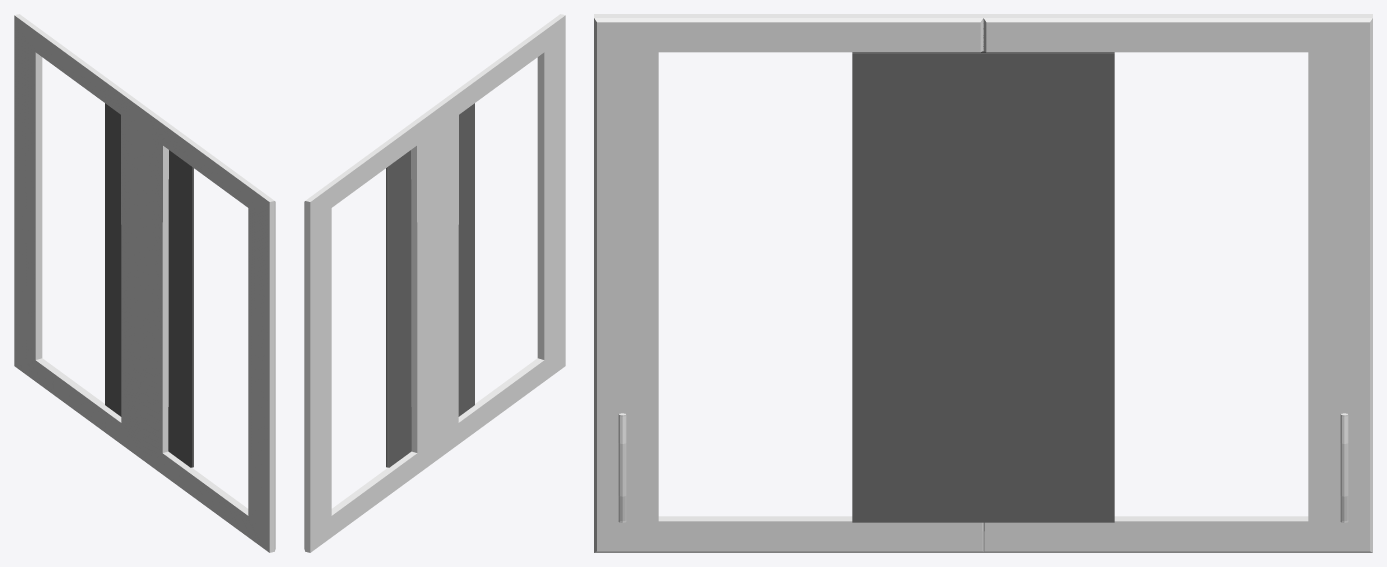
The model's file is Cabinet_8bba9b0e.obj.
3 views of the same model, side by side, from view 1: azimuth 30°, elevation 25°; view 2: azimuth 150°, elevation 25°; view 3: azimuth 270°, elevation 25° (orthographic). The views are drawn at different scales.
Parts seen in each view (by area): view 1: CabinetDoorMesh_c4d226b8, CabinetDoorMesh_796617c4, FP224:polySurface1_1_35c3c8af, FP224:polySurface8_1_af4ea848; view 2: CabinetDoorMesh_796617c4, CabinetDoorMesh_c4d226b8, FP224:polySurface1_1_35c3c8af, FP224:polySurface8_1_af4ea848; view 3: FP224:polySurface1_1_35c3c8af, FP224:polySurface8_1_af4ea848, CabinetDoorMesh_c4d226b8, CabinetDoorMesh_796617c4.
Part boxes in pixels (box(x1,y1,x2,y2)): CabinetDoorMesh_c4d226b8: box(141, 107, 275, 552); CabinetDoorMesh_796617c4: box(14, 14, 146, 459); FP224:polySurface1_1_35c3c8af: box(105, 103, 193, 467); FP224:polySurface8_1_af4ea848: box(105, 103, 190, 466); CabinetDoorMesh_796617c4: box(304, 107, 438, 552); CabinetDoorMesh_c4d226b8: box(433, 14, 565, 459); FP224:polySurface1_1_35c3c8af: box(389, 103, 474, 466); FP224:polySurface8_1_af4ea848: box(386, 150, 474, 467); FP224:polySurface1_1_35c3c8af: box(852, 51, 1114, 522); FP224:polySurface8_1_af4ea848: box(852, 52, 1114, 522); CabinetDoorMesh_c4d226b8: box(594, 14, 984, 552); CabinetDoorMesh_796617c4: box(983, 14, 1372, 552).
Bounding box in the file's own units: 0.0278 × 0.6279 × 0.8282.
